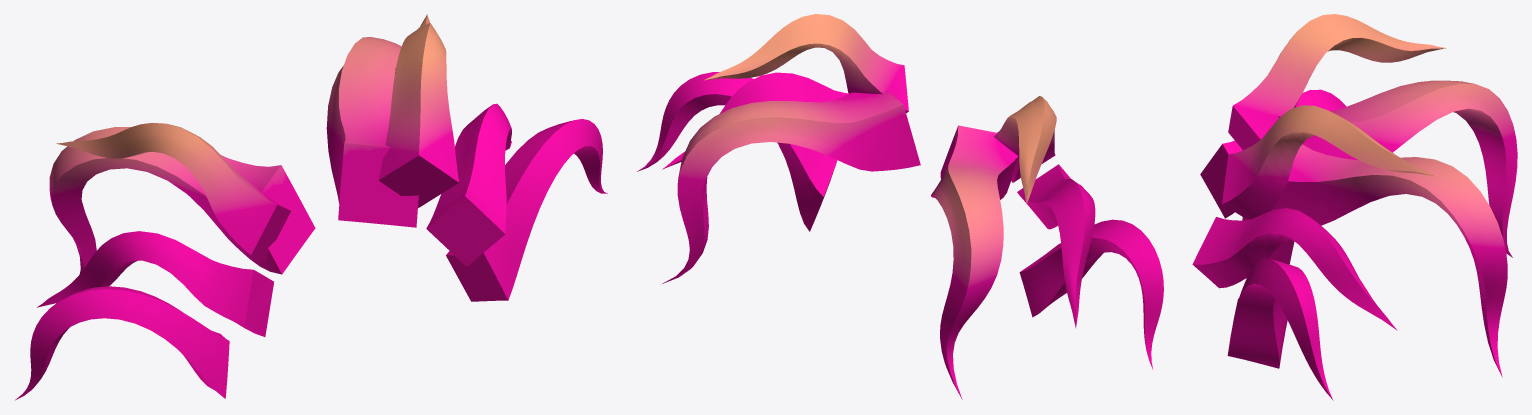
The model's file is branquias_esfera.fbx.
3 renders of one model, left to right at view 1: azimuth 30°, elevation 25°; view 2: azimuth 150°, elevation 25°; view 3: azimuth 270°, elevation 25°, orthographic. The views are drawn at different scales.
Visible parts, largest first — view 1: TRIANGULO BRANQUIAS; view 2: TRIANGULO BRANQUIAS; view 3: TRIANGULO BRANQUIAS.
Part boxes in pixels (x1=…): TRIANGULO BRANQUIAS: x1=15, y1=14, x2=607, y2=400; TRIANGULO BRANQUIAS: x1=637, y1=14, x2=1163, y2=399; TRIANGULO BRANQUIAS: x1=1192, y1=14, x2=1517, y2=400.
Size of the model in its own units: 275 by 132 by 138.
